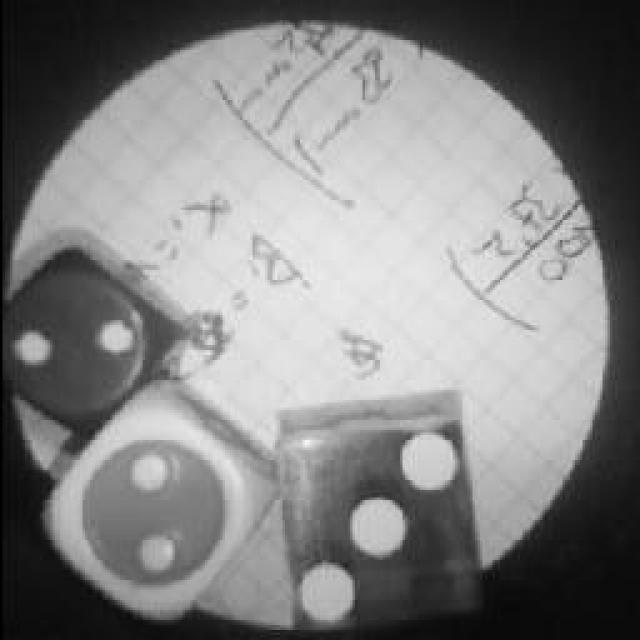dice_2: (32, 378, 282, 622), (0, 240, 178, 442)
dice_3: (268, 405, 482, 640)
